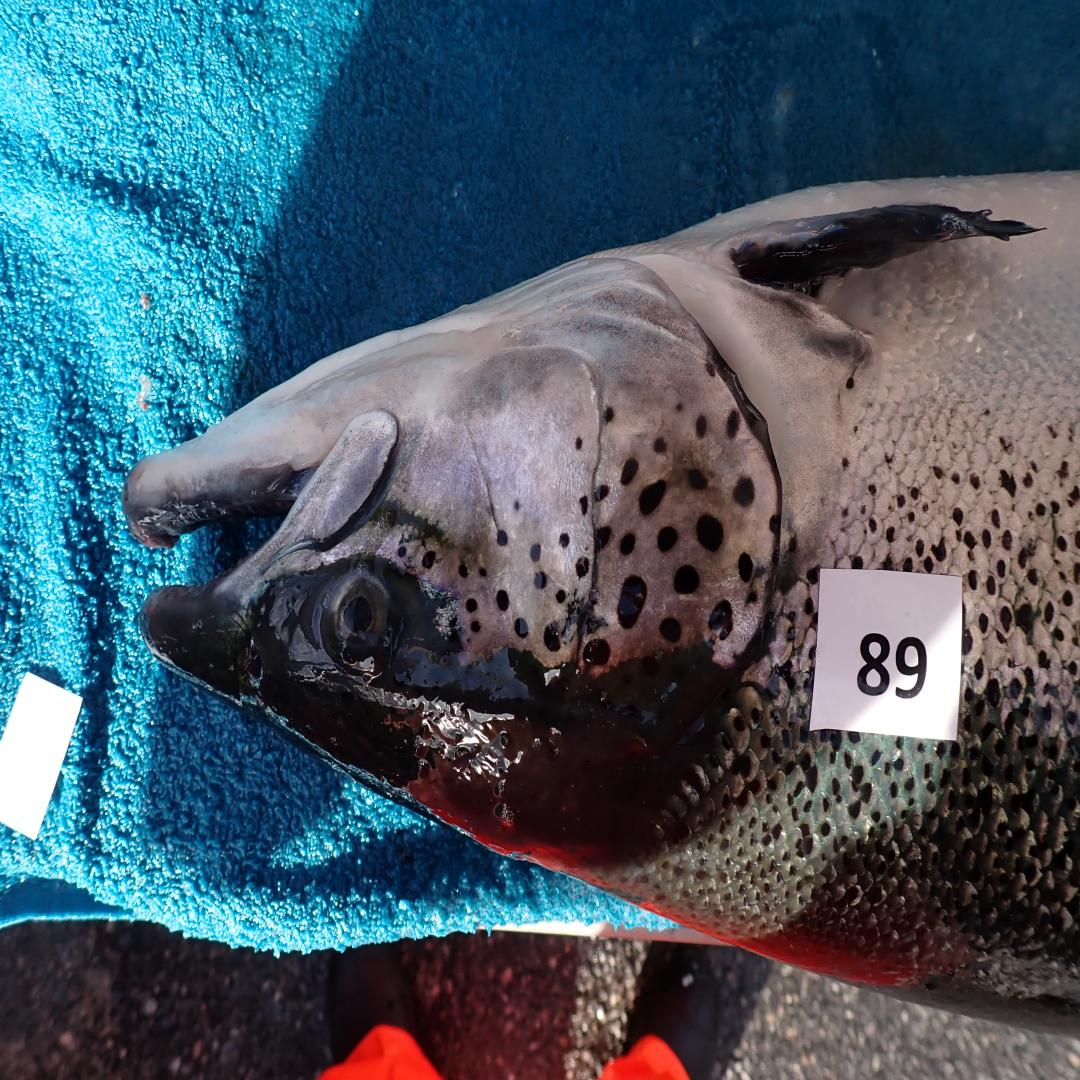roi: (399, 246, 783, 679)
